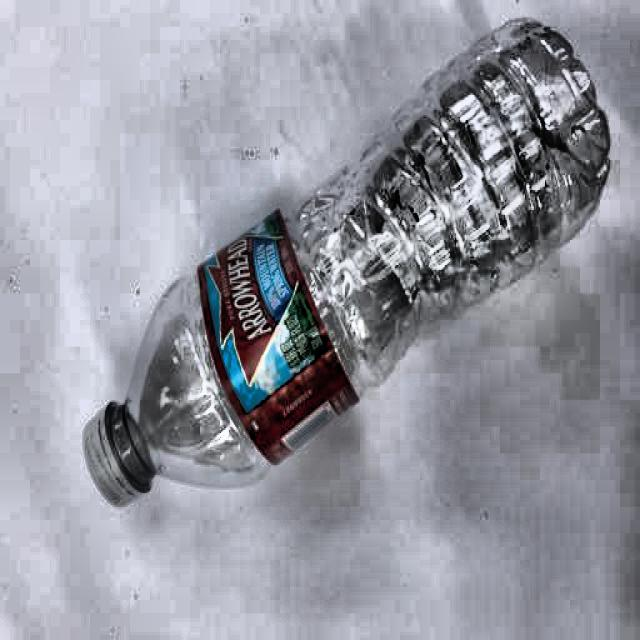plastic: (81, 17, 609, 505)
